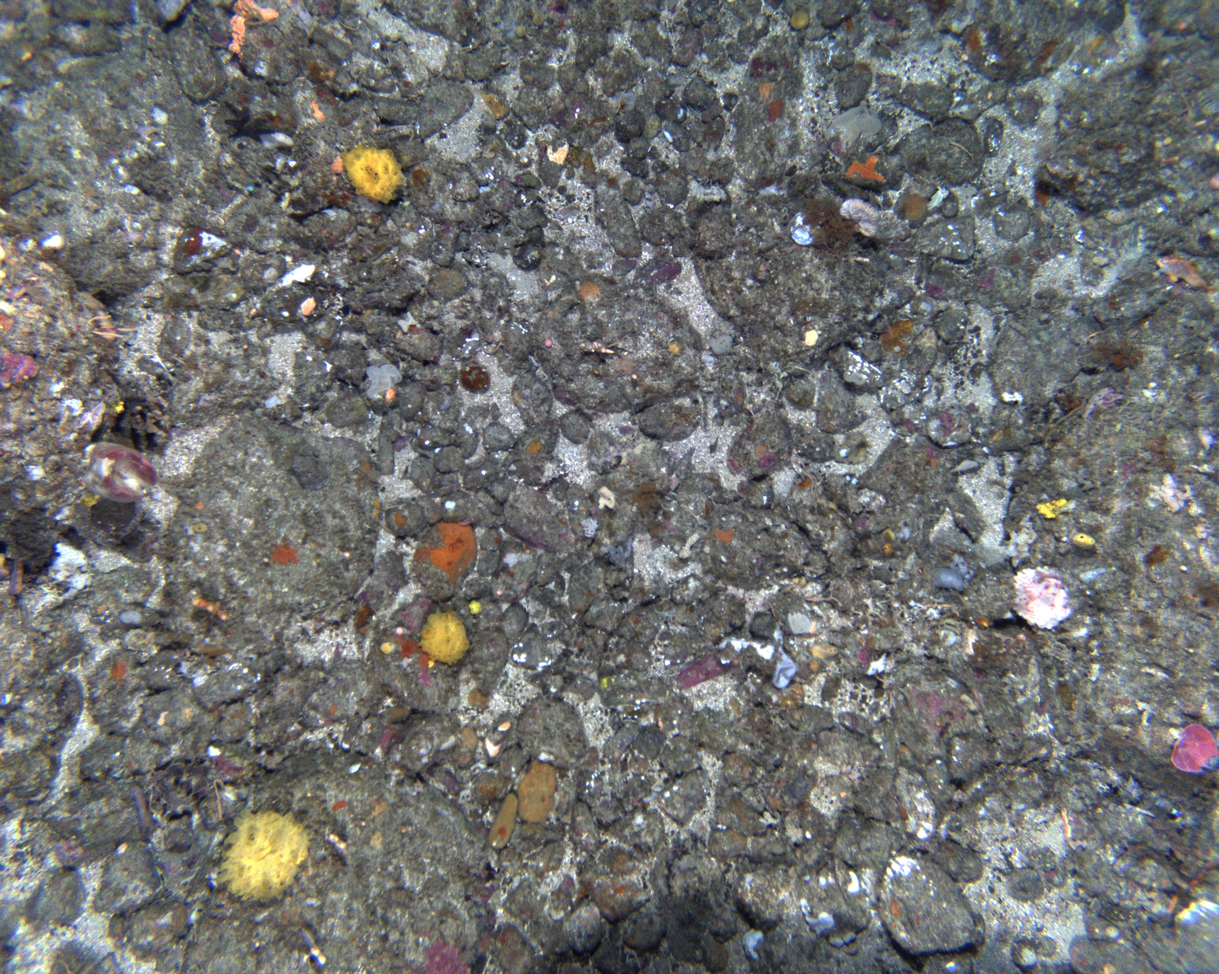Brachionichthyidae: (1153, 253, 1219, 296)
